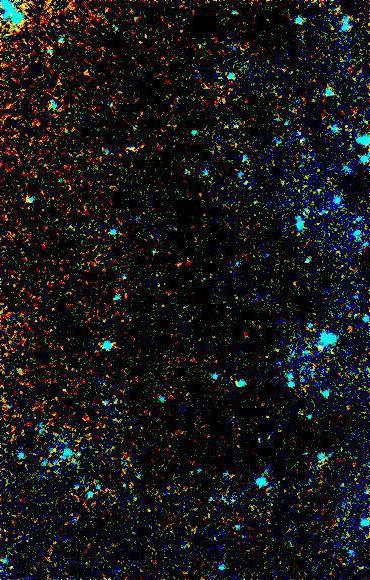star: (169, 247, 199, 277)
